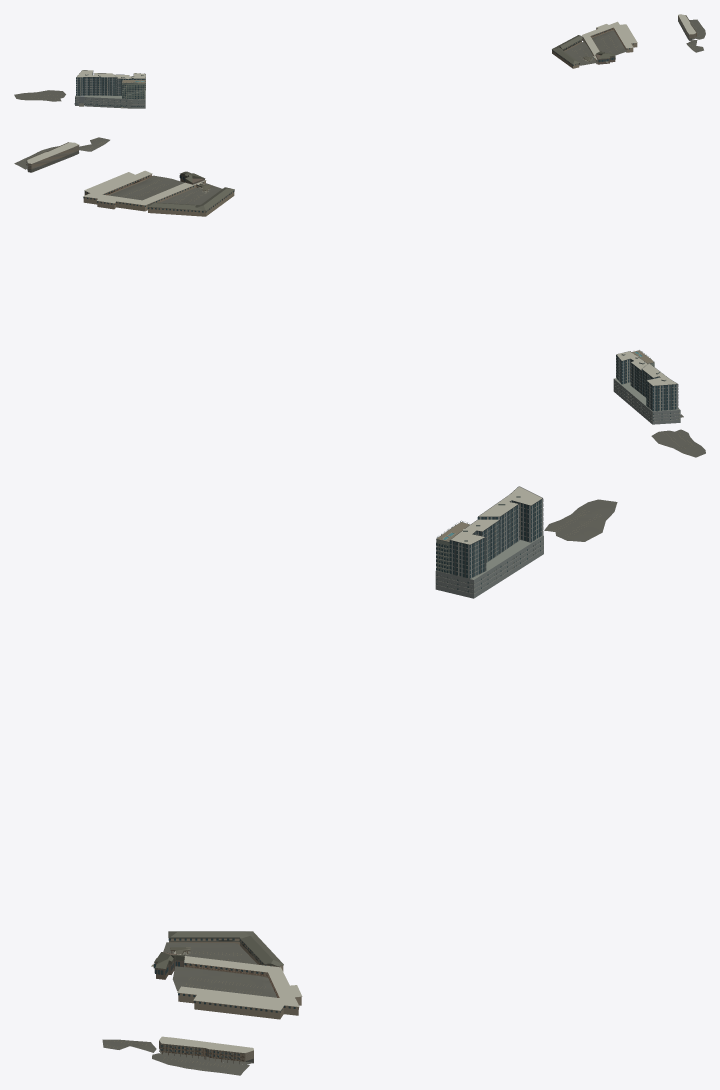
File: site.glb
3 views of the same model, one above another, from view 1: azimuth 30°, elevation 25°; view 2: azimuth 150°, elevation 25°; view 3: azimuth 270°, elevation 25° (orthographic). The views are drawn at different scales.
Parts seen in each view (by area): view 1: roof-ccf05c70, franklin-riverfront-paving, roof-fc32181c, best-western-new-oregon-west-wing, roof-29af5658; view 2: roof-ccf05c70, franklin-riverfront-paving, roof-fc32181c, best-western-new-oregon-west-wing, roof-29af5658; view 3: roof-ccf05c70, franklin-riverfront-paving, roof-fc32181c, best-western-new-oregon-west-wing, roof-29af5658.
Boxes of the visible parts, x1=… form: roof-ccf05c70: x1=74, y1=70, x2=145, y2=108; franklin-riverfront-paving: x1=14, y1=19, x2=705, y2=107; roof-fc32181c: x1=582, y1=21, x2=637, y2=64; best-western-new-oregon-west-wing: x1=552, y1=35, x2=582, y2=68; roof-29af5658: x1=678, y1=14, x2=696, y2=40; roof-ccf05c70: x1=613, y1=350, x2=680, y2=424; franklin-riverfront-paving: x1=14, y1=137, x2=705, y2=457; roof-fc32181c: x1=83, y1=170, x2=212, y2=211; best-western-new-oregon-west-wing: x1=147, y1=187, x2=234, y2=216; roof-29af5658: x1=26, y1=142, x2=79, y2=172; roof-ccf05c70: x1=435, y1=486, x2=543, y2=598; franklin-riverfront-paving: x1=102, y1=499, x2=617, y2=1075; roof-fc32181c: x1=153, y1=947, x2=302, y2=1019; best-western-new-oregon-west-wing: x1=168, y1=931, x2=283, y2=971; roof-29af5658: x1=159, y1=1036, x2=253, y2=1064.
Size of the model in its own units: 977 by 45.19 by 368.
